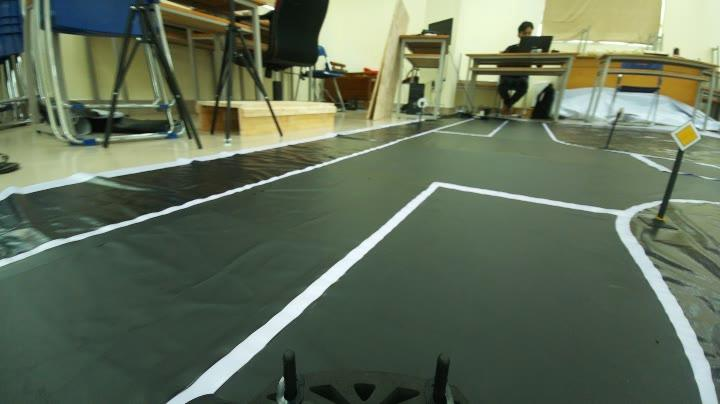priority: (668, 116, 704, 153)
